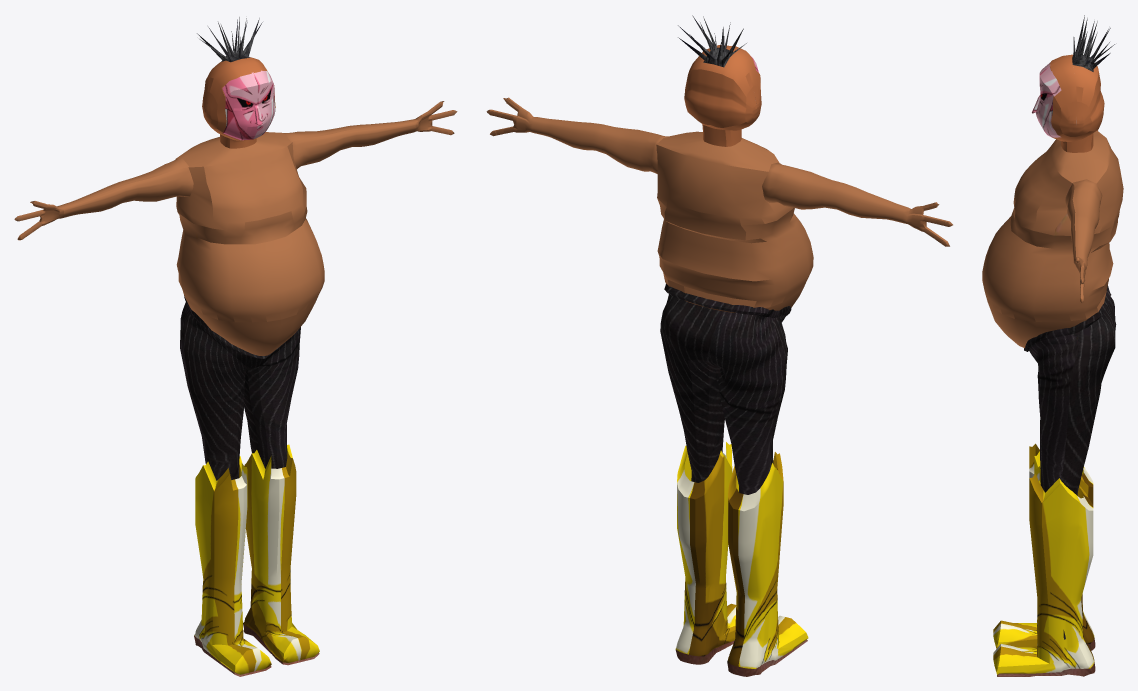
The model's file is VJBT-character2.obj.
3 views of the same model, side by side, from view 1: azimuth 30°, elevation 25°; view 2: azimuth 150°, elevation 25°; view 3: azimuth 270°, elevation 25° (orthographic). The views are drawn at different scales.
Visible parts, largest first — view 1: VJBT_character2; view 2: VJBT_character2; view 3: VJBT_character2.
Boxes of the visible parts, box(x1,y1,x2,y2) form: VJBT_character2: box(14, 17, 457, 676); VJBT_character2: box(486, 15, 952, 676); VJBT_character2: box(982, 15, 1123, 676).
Size of the model in its own units: 6.48 by 8.61 by 1.73.
Materials: 6 (6 with a texture image).
